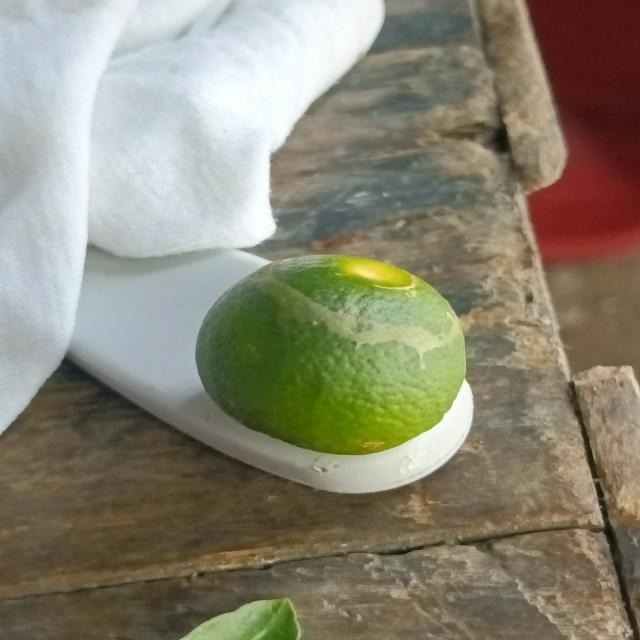thrips: (190, 250, 477, 466)
